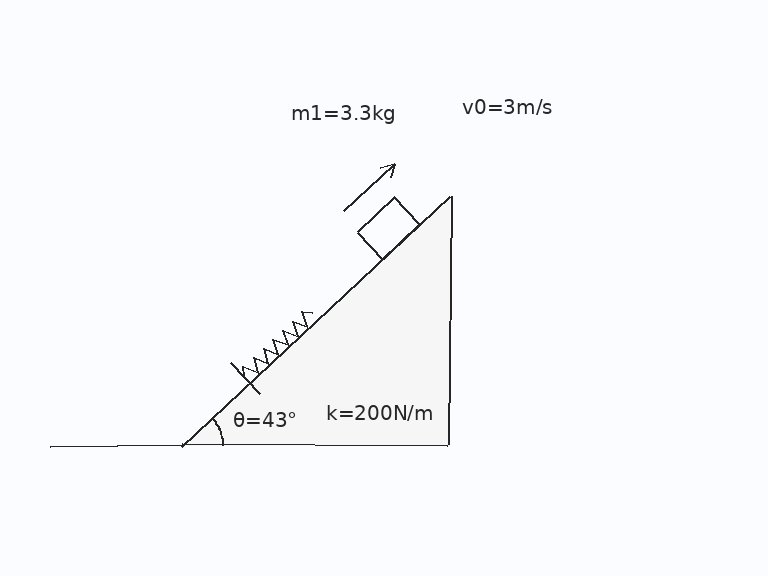block: (355, 195, 421, 261)
ramp: (181, 195, 451, 447)
spring: (241, 309, 315, 378)
